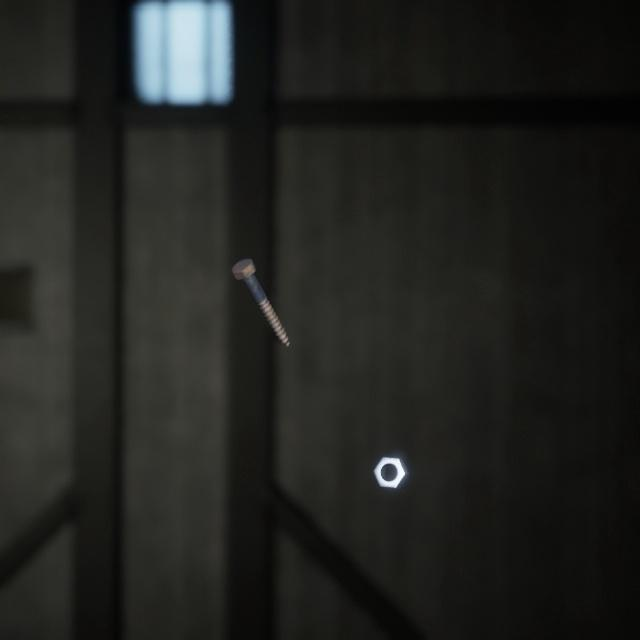bolt: (227, 236, 294, 333)
nut: (369, 432, 413, 472)
